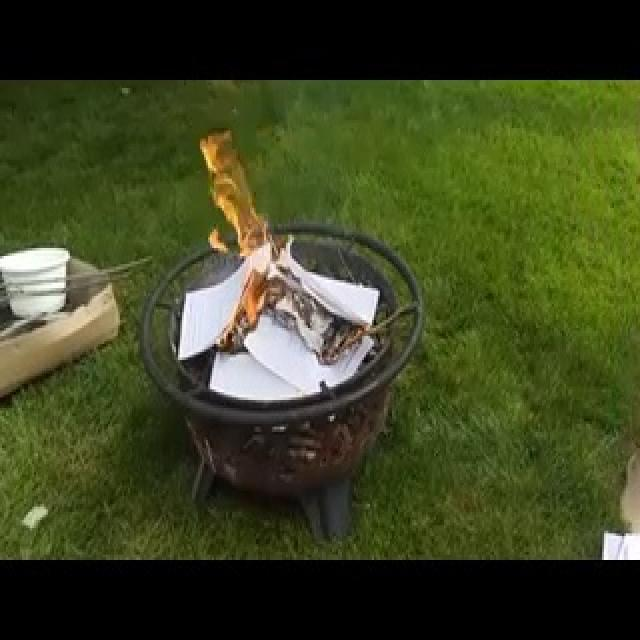fire: (195, 113, 289, 351)
